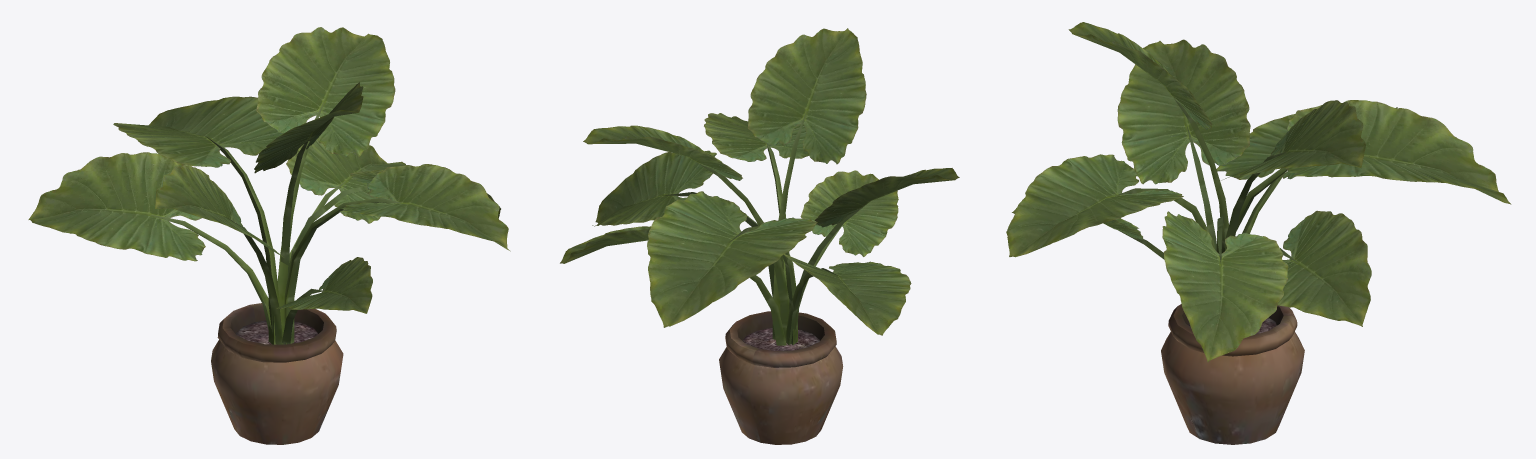
Rendered from potted_plant_1.glb.
The picture shows the model from 3 angles, left to right: view 1: azimuth 30°, elevation 25°; view 2: azimuth 150°, elevation 25°; view 3: azimuth 270°, elevation 25°; orthographic projection. The views are drawn at different scales.
Parts seen in each view (by area): view 1: leaves_01 - Default_0, pot_01 - Default_0; view 2: leaves_01 - Default_0, pot_01 - Default_0; view 3: leaves_01 - Default_0, pot_01 - Default_0.
Boxes of the visible parts, x1=… form: leaves_01 - Default_0: x1=28, y1=27, x2=510, y2=344; pot_01 - Default_0: x1=211, y1=303, x2=343, y2=444; leaves_01 - Default_0: x1=560, y1=28, x2=959, y2=345; pot_01 - Default_0: x1=719, y1=311, x2=843, y2=444; leaves_01 - Default_0: x1=1006, y1=22, x2=1511, y2=362; pot_01 - Default_0: x1=1161, y1=304, x2=1304, y2=444.
Size of the model in its own units: 0.6781 by 0.6 by 0.6947.
Materials: 2 (2 with a texture image).
